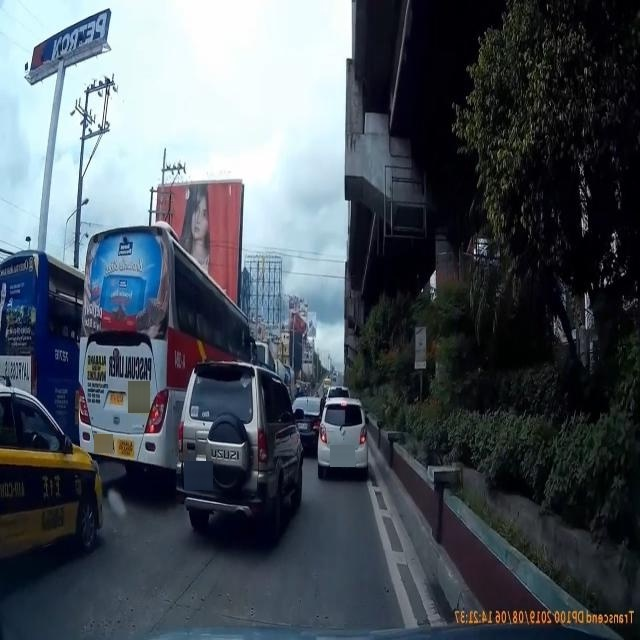bus: (74, 230, 258, 486), (0, 261, 89, 450)
car: (174, 364, 316, 551), (0, 387, 100, 567), (315, 387, 373, 482), (292, 392, 324, 444)
